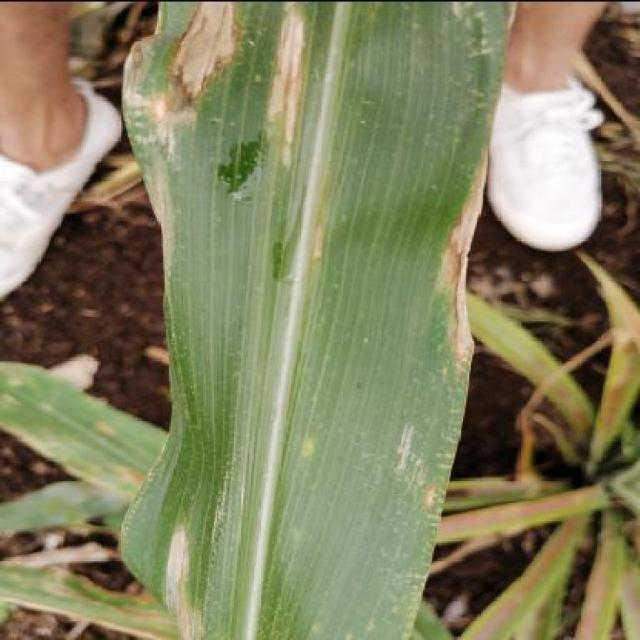Corn_Leaf_Blight: (126, 0, 508, 640)
